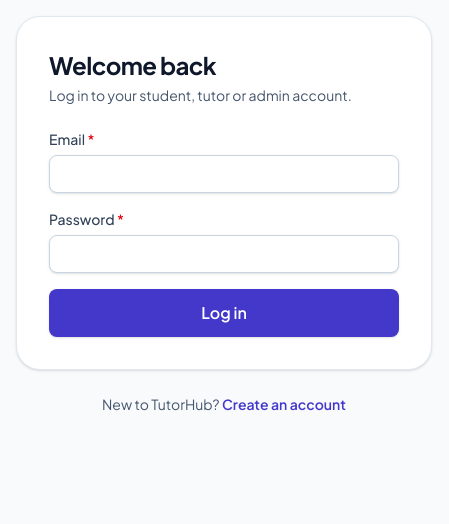
Scenario: login › uses a generic message for failed logins
Type "someone@example.com" into the field labelled "Email *".
click(224, 174); type("someone@example.com")  # box 49,155 -> 399,193
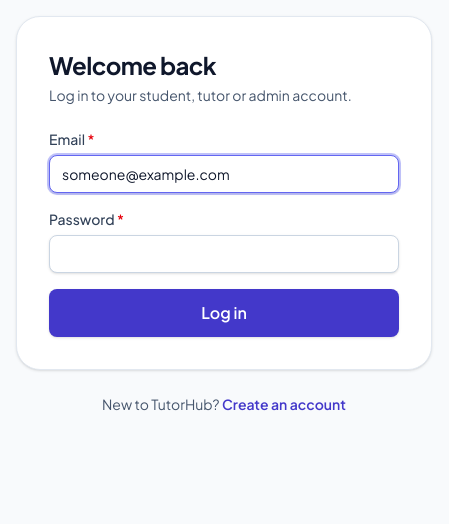
Type "wrongpass1" into the password field labelled "Password *".
click(224, 254); type("wrongpass1")  # box 49,235 -> 399,273
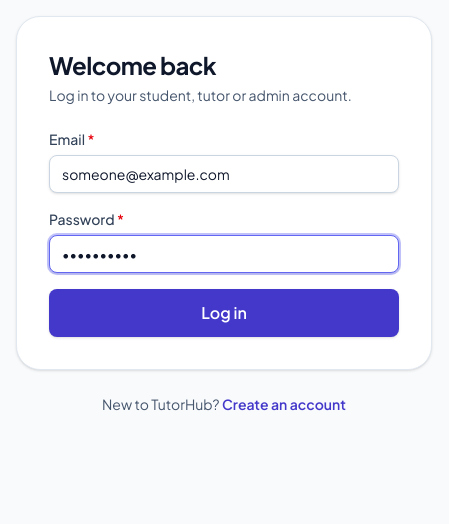
Click the button "Log in".
click(224, 313)  # box 49,289 -> 399,337
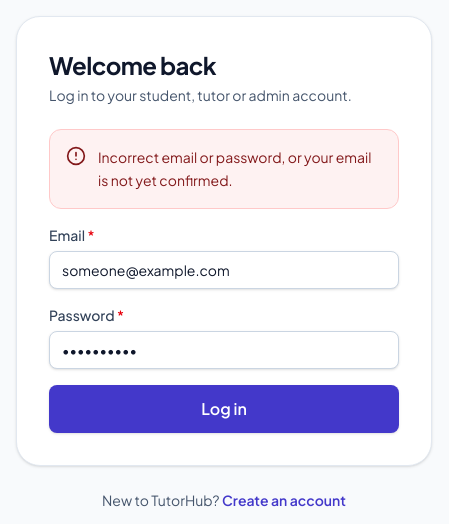
Check: the message reads "Incorrect email or password, or your email is not yet confirmed.", box 98,148 -> 371,189
